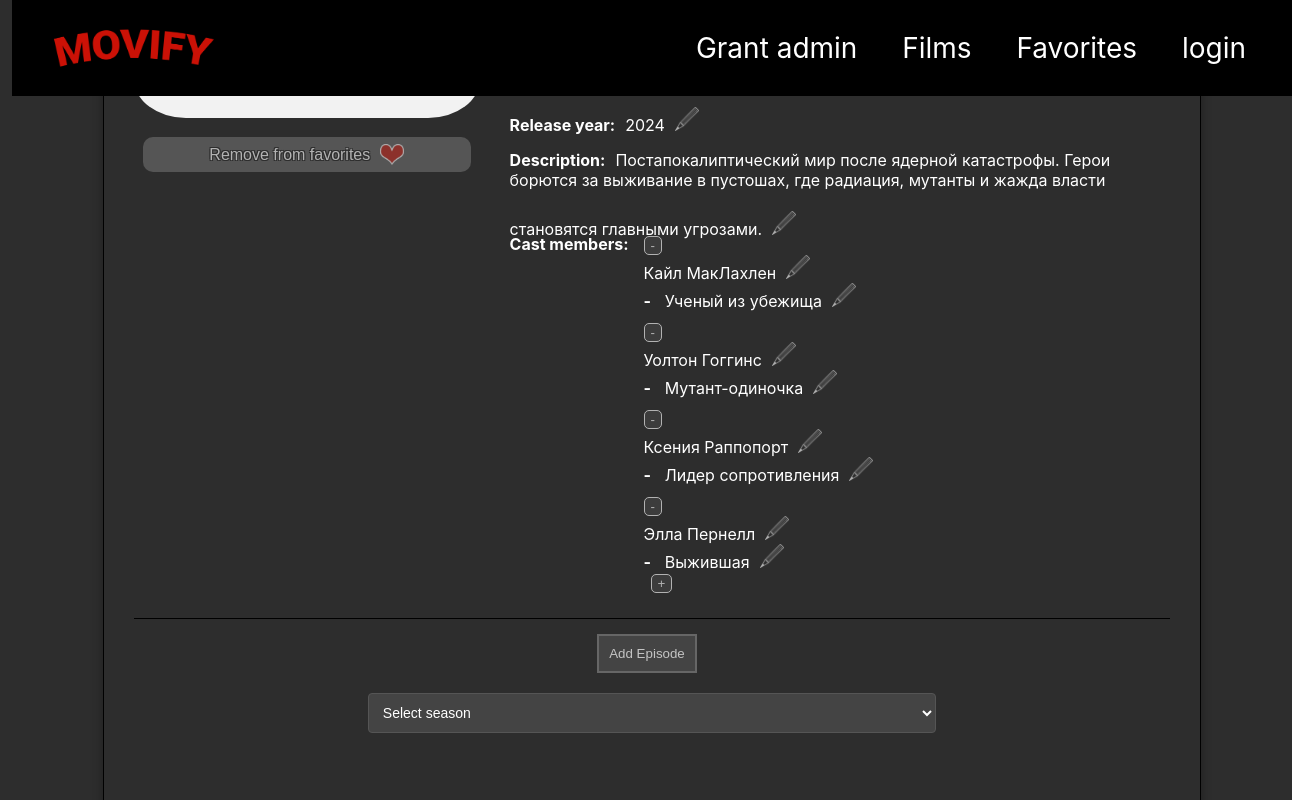
Scenario: FilmDetail › displays correct message for ADMIN and ERROR
(page scrolled)
Select "Season 1" in the dropdown. click: (652, 713)
box: [368,693,936,733]
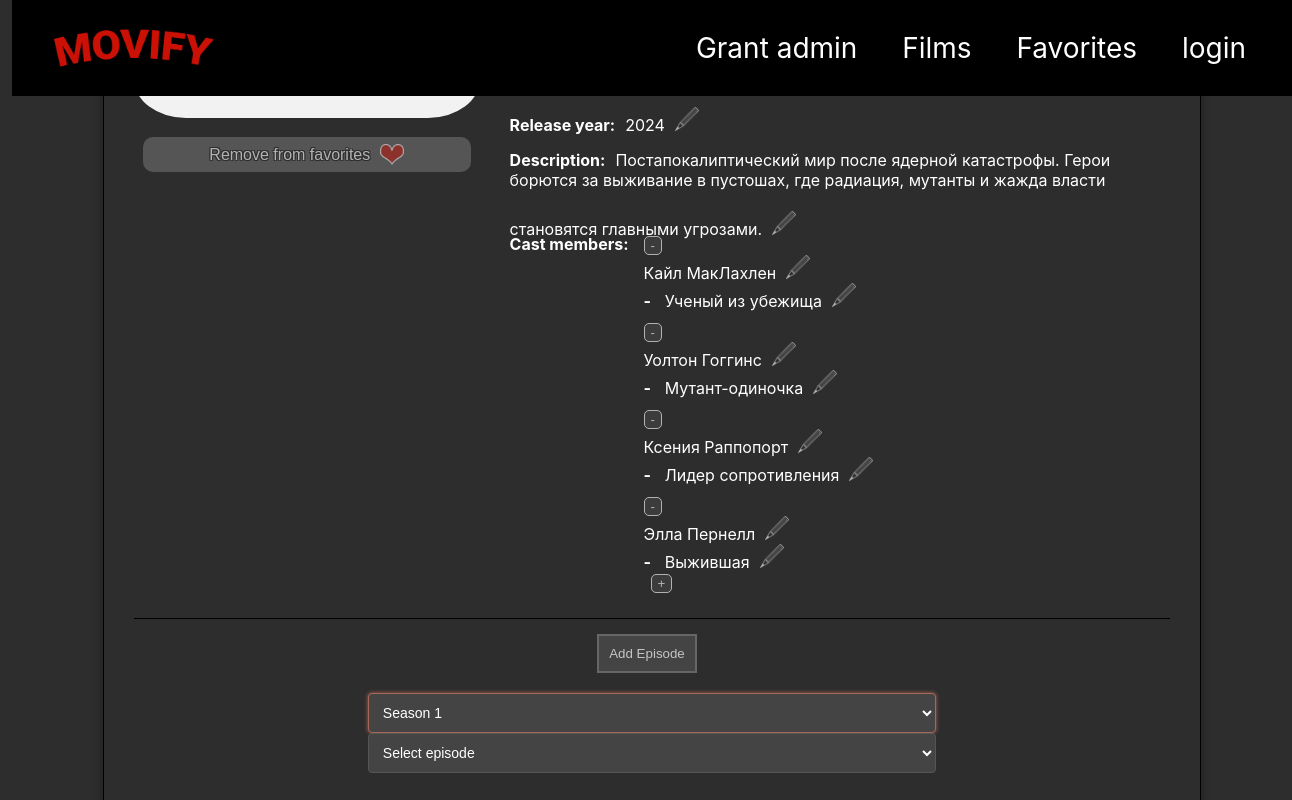
Select "1. Test Episode" in the 2nd dropdown. click: (652, 753)
box: [368,733,936,773]
(page scrolled)
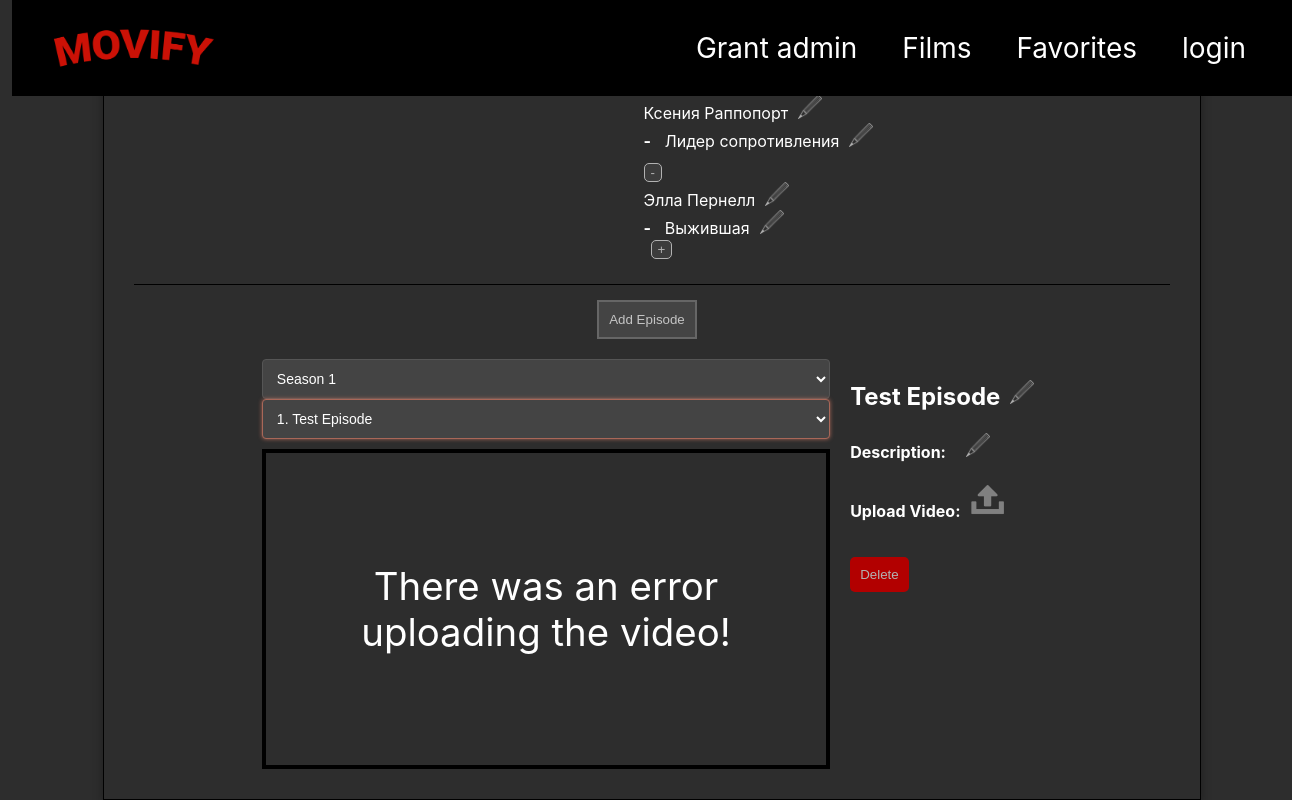
Check: the text "There was an error uploading the video!" is shown, box [262,449,830,769]
